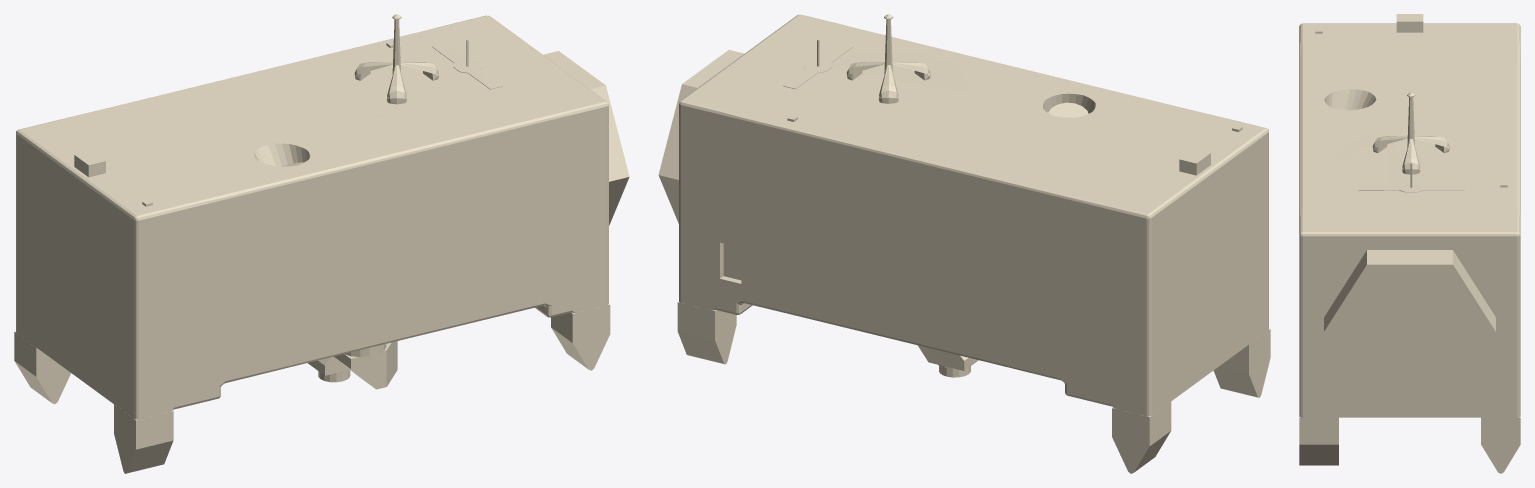
The model's file is oco3.glb.
3 views of the same model, side by side, from view 1: azimuth 30°, elevation 25°; view 2: azimuth 150°, elevation 25°; view 3: azimuth 270°, elevation 25° (orthographic). The views are drawn at different scales.
Visible parts, largest first — view 1: JEM_EF_OCO3; view 2: JEM_EF_OCO3; view 3: JEM_EF_OCO3.
Boxes of the visible parts, box(x1,y1,x2,y2) form: JEM_EF_OCO3: box(14, 14, 629, 473); JEM_EF_OCO3: box(658, 14, 1270, 473); JEM_EF_OCO3: box(1299, 14, 1520, 473).
Bounding box in the file's own units: 0.2082 × 0.135 × 0.0863.
